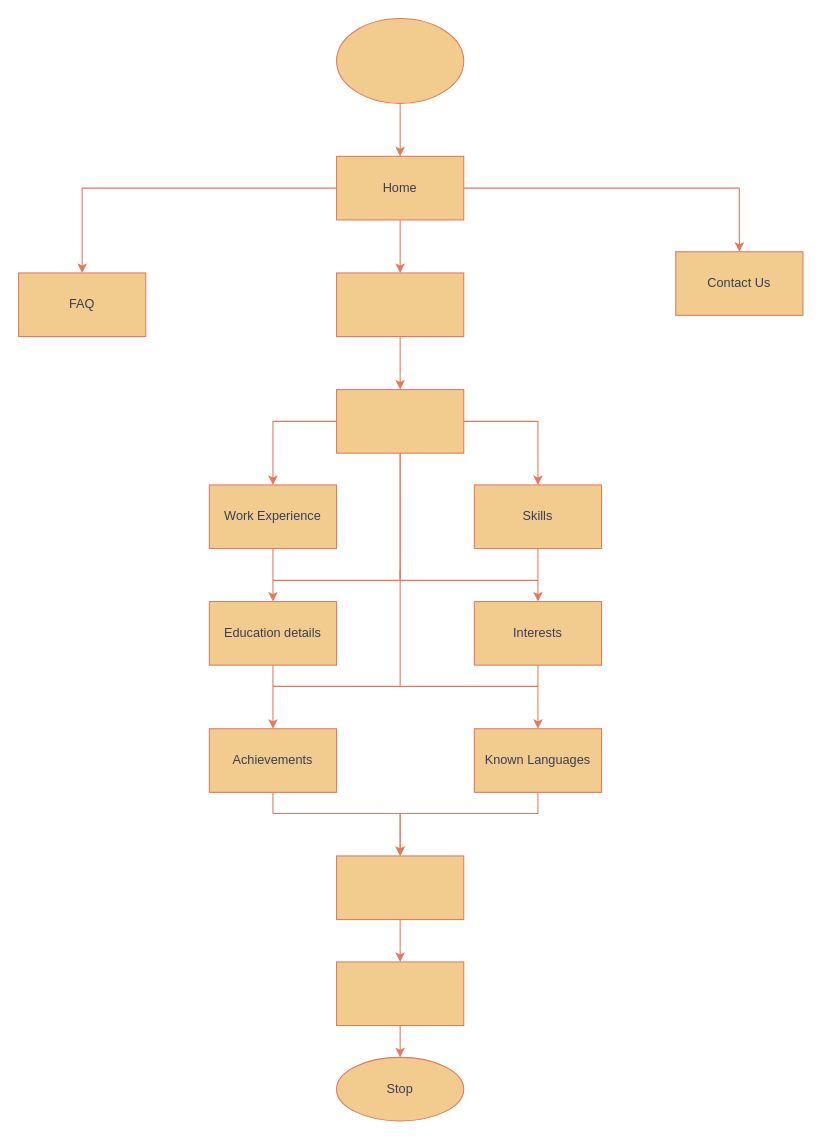
The diagram is 821 pixels wide and 1139 high, and some of its shapes have lost their labels. Here are the shapes that lost their labels. From the top down, the centre of each, then its label:
the point at 399,60: Start
the point at 399,304: Create Resume
the point at 399,420: Personal Details
the point at 399,887: Resume Preview
the point at 399,993: Export PDF
